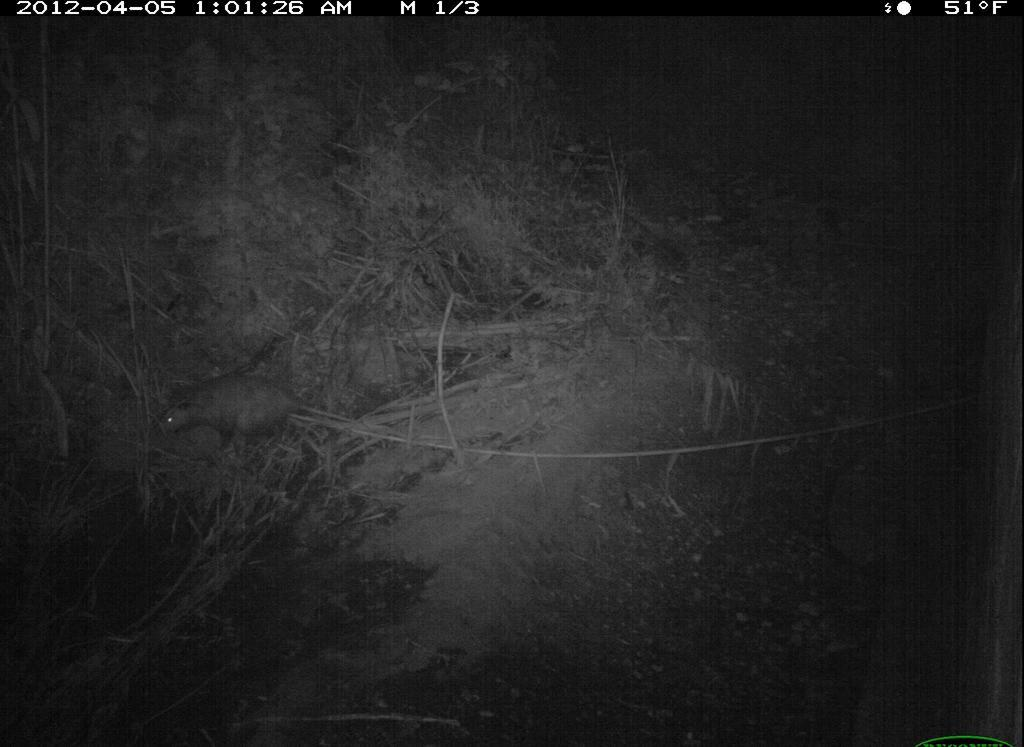opossum: (140, 368, 330, 461)
